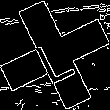L_NW: (30, 26, 80, 84)
